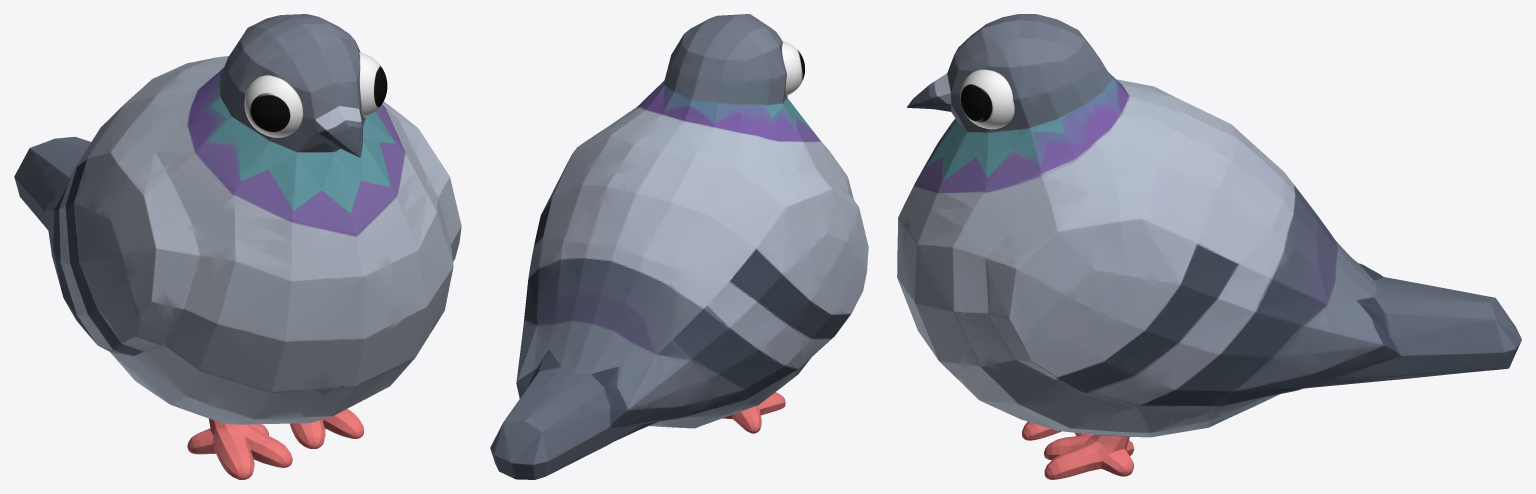
The model's file is pigeon.glb.
The picture shows the model from 3 angles, left to right: view 1: azimuth 30°, elevation 25°; view 2: azimuth 150°, elevation 25°; view 3: azimuth 270°, elevation 25°; orthographic projection. The views are drawn at different scales.
Bounding box in the file's own units: 1.08 × 1.43 × 1.9.
Materials: 1 (1 with a texture image).
